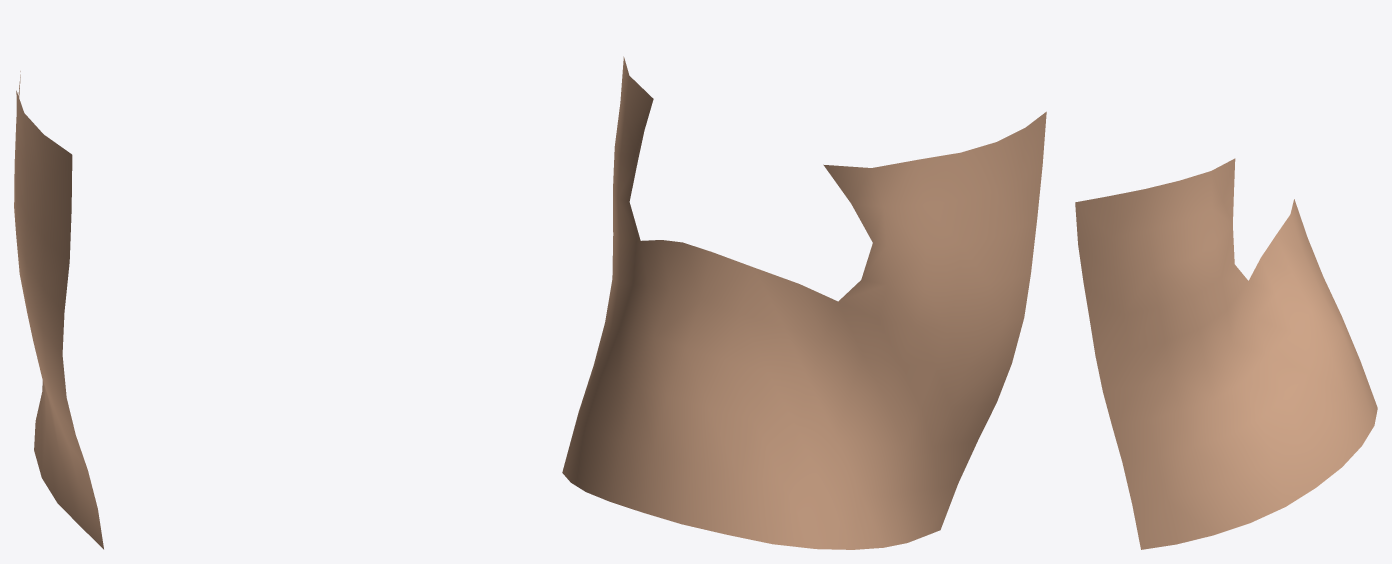
File: posterior-region-of-knee-l.glb
3 renders of one model, left to right at view 1: azimuth 30°, elevation 25°; view 2: azimuth 150°, elevation 25°; view 3: azimuth 270°, elevation 25°, orthographic. The views are drawn at different scales.
Parts seen in each view (by area): view 1: Posterior region of knee.l; view 2: Posterior region of knee.l; view 3: Posterior region of knee.l.
Part boxes in pixels (x1,y1,x2,y2): Posterior region of knee.l: (14, 71, 103, 549); Posterior region of knee.l: (562, 56, 1046, 549); Posterior region of knee.l: (1075, 158, 1377, 549).
Size of the model in its own units: 0.1232 by 0.1195 by 0.0897.
